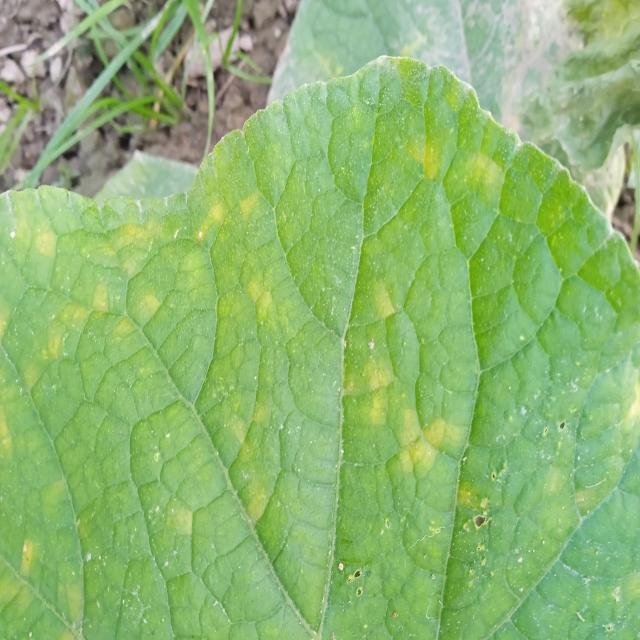cucumber_downy: (0, 116, 631, 640)
